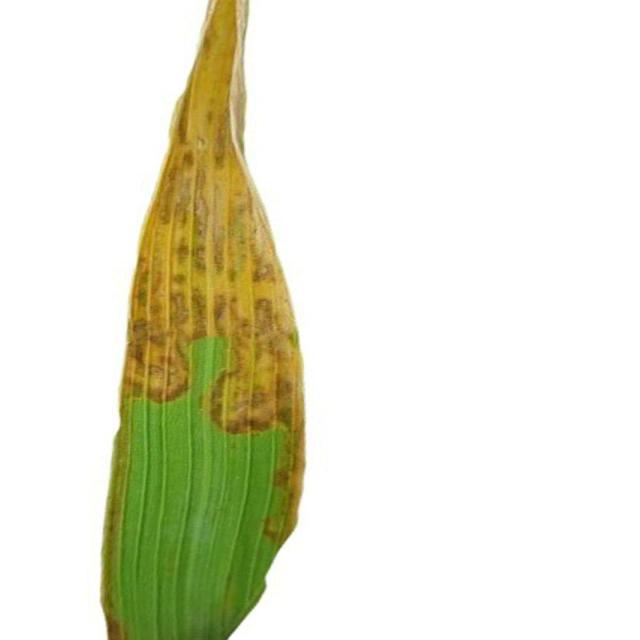Leaf scald: (79, 1, 362, 640)
